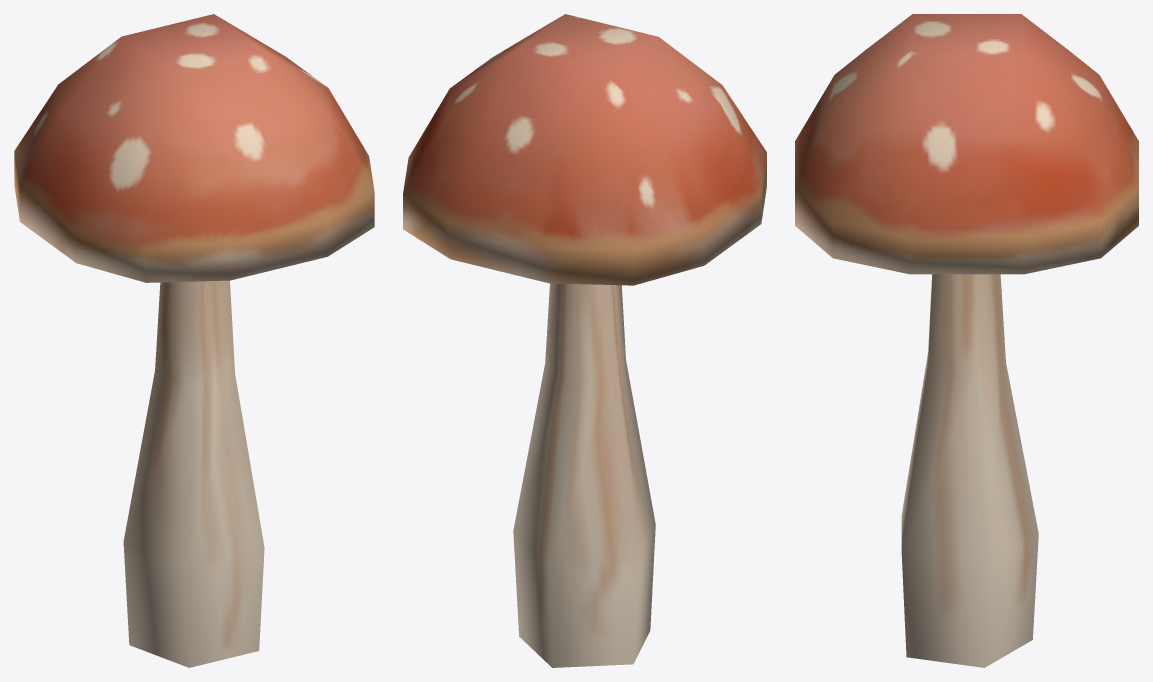
The model's file is hongo1.fbx.
3 views of the same model, side by side, from view 1: azimuth 30°, elevation 25°; view 2: azimuth 150°, elevation 25°; view 3: azimuth 270°, elevation 25° (orthographic).
Visible parts, largest first — view 1: HONGO; view 2: HONGO; view 3: HONGO.
Boxes of the visible parts, x1,y1,x2,y2 form: HONGO: (14, 14, 374, 667); HONGO: (403, 14, 766, 667); HONGO: (795, 14, 1138, 667).
Bounding box in the file's own units: 201 × 389 × 201.
